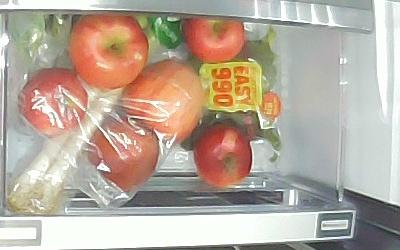apple: (70, 12, 148, 89), (194, 124, 251, 188), (183, 17, 245, 62)
apple_vinyl: (121, 58, 204, 143), (89, 119, 160, 190), (19, 68, 89, 134)
